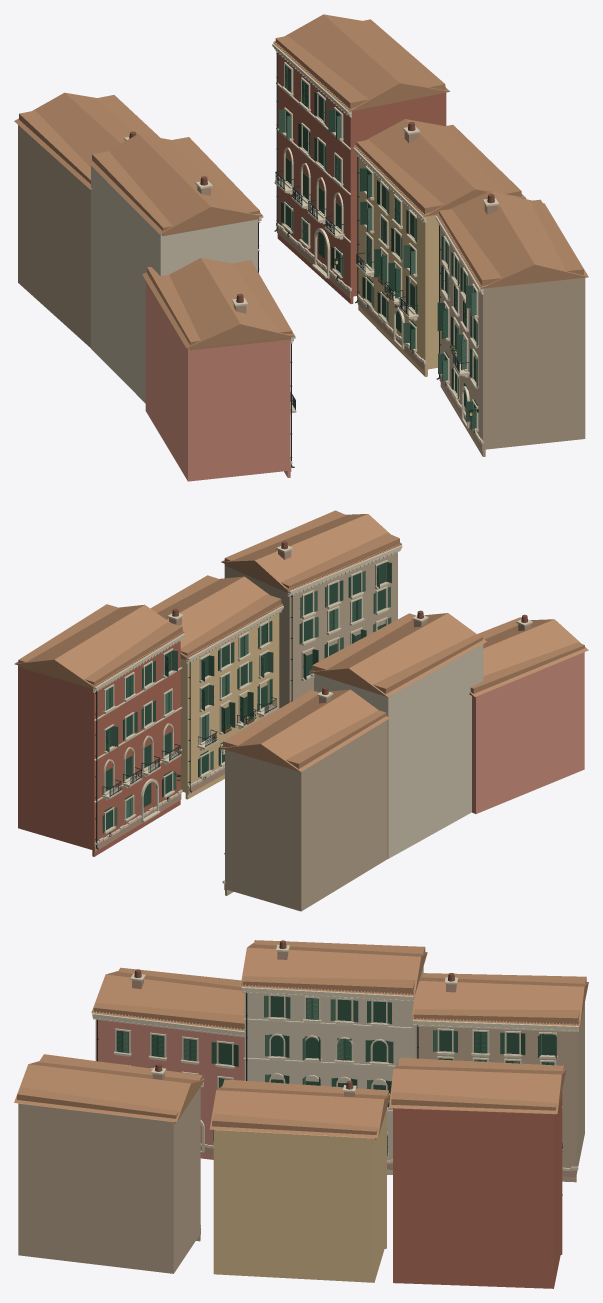
File: canal-07.glb
The picture shows the model from 3 angles, top to bottom: view 1: azimuth 30°, elevation 25°; view 2: azimuth 150°, elevation 25°; view 3: azimuth 270°, elevation 25°; orthographic projection. The views are drawn at different scales.
Parts seen in each view (by area): view 1: Main elevations / kit:roof, Main elevations / kit:walls:1, Distant elevations / kit:roof, Distant elevations / kit:walls:5, Main elevations / kit:walls:5, Main elevations / kit:walls:3, Main elevations / kit:stone, Main elevations / kit:walls:4, Distant elevations / kit:walls:4, Main elevations / kit:green, Main elevations / kit:greenDark, Distant elevations / kit:walls:2 (+6 smaller); view 2: Main elevations / kit:roof, Main elevations / kit:walls:5, Main elevations / kit:walls:3, Distant elevations / kit:roof, Main elevations / kit:walls:1, Distant elevations / kit:walls:4, Main elevations / kit:stone, Main elevations / kit:walls:4, Distant elevations / kit:walls:2, Distant elevations / kit:greenDark, Main elevations / kit:greenDark, Main elevations / kit:green (+6 smaller); view 3: Main elevations / kit:roof, Main elevations / kit:walls:5, Main elevations / kit:walls:4, Main elevations / kit:walls:2, Distant elevations / kit:roof, Distant elevations / kit:walls:3, Main elevations / kit:stone, Distant elevations / kit:walls:5, Distant elevations / kit:walls:1, Distant elevations / kit:greenDark, Main elevations / kit:greenDark, Main elevations / kit:green (+7 smaller).
Part boxes in pixels (left/top/right/bottom): Main elevations / kit:roof: left=14, top=14, right=588, bottom=348; Main elevations / kit:walls:1: left=145, top=281, right=290, bottom=481; Distant elevations / kit:roof: left=19, top=19, right=583, bottom=350; Distant elevations / kit:walls:5: left=442, top=257, right=572, bottom=449; Main elevations / kit:walls:5: left=18, top=125, right=585, bottom=456; Main elevations / kit:walls:3: left=91, top=166, right=257, bottom=403; Main elevations / kit:stone: left=124, top=43, right=498, bottom=464; Main elevations / kit:walls:4: left=277, top=54, right=446, bottom=303; Distant elevations / kit:walls:4: left=283, top=93, right=443, bottom=296; Main elevations / kit:green: left=279, top=65, right=477, bottom=421; Main elevations / kit:greenDark: left=287, top=67, right=476, bottom=429; Distant elevations / kit:walls:2: left=360, top=161, right=428, bottom=369; Main elevations / kit:roof: left=14, top=514, right=588, bottom=771; Main elevations / kit:walls:5: left=224, top=559, right=387, bottom=911; Main elevations / kit:walls:3: left=314, top=644, right=483, bottom=858; Distant elevations / kit:roof: left=18, top=510, right=584, bottom=768; Main elevations / kit:walls:1: left=474, top=652, right=584, bottom=813; Distant elevations / kit:walls:4: left=20, top=668, right=171, bottom=850; Main elevations / kit:stone: left=93, top=545, right=532, bottom=883; Main elevations / kit:walls:4: left=18, top=641, right=180, bottom=856; Distant elevations / kit:walls:2: left=185, top=613, right=279, bottom=793; Distant elevations / kit:greenDark: left=104, top=562, right=385, bottom=830; Main elevations / kit:greenDark: left=109, top=576, right=361, bottom=797; Main elevations / kit:green: left=102, top=562, right=392, bottom=833; Main elevations / kit:roof: left=14, top=943, right=588, bottom=1138; Main elevations / kit:walls:5: left=18, top=1003, right=584, bottom=1273; Main elevations / kit:walls:4: left=393, top=1108, right=562, bottom=1288; Main elevations / kit:walls:2: left=213, top=1110, right=386, bottom=1282; Distant elevations / kit:roof: left=17, top=940, right=586, bottom=1139; Distant elevations / kit:walls:3: left=244, top=993, right=411, bottom=1162; Main elevations / kit:stone: left=92, top=944, right=578, bottom=1226; Distant elevations / kit:walls:5: left=174, top=1004, right=584, bottom=1271; Distant elevations / kit:walls:1: left=100, top=1020, right=235, bottom=1144; Distant elevations / kit:greenDark: left=122, top=996, right=554, bottom=1089; Main elevations / kit:greenDark: left=116, top=1001, right=554, bottom=1155; Main elevations / kit:green: left=123, top=995, right=556, bottom=1088.
Size of the model in its own units: 36.96 by 18.81 by 46.6.
